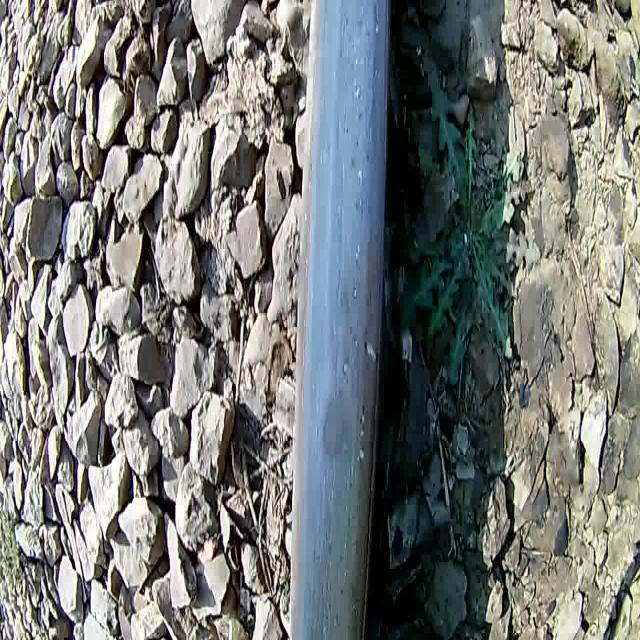Squats: (276, 0, 408, 640)
